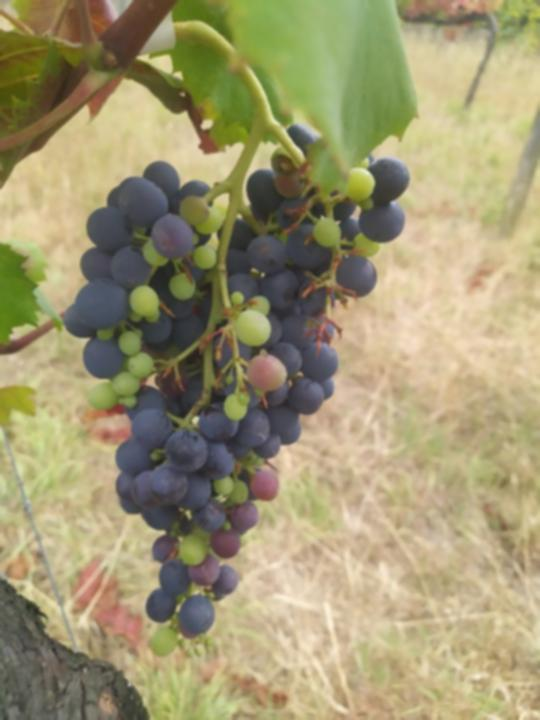grape: (59, 119, 413, 660)
